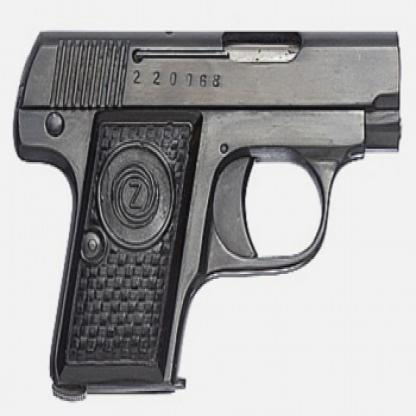Guns: (7, 23, 403, 402)
